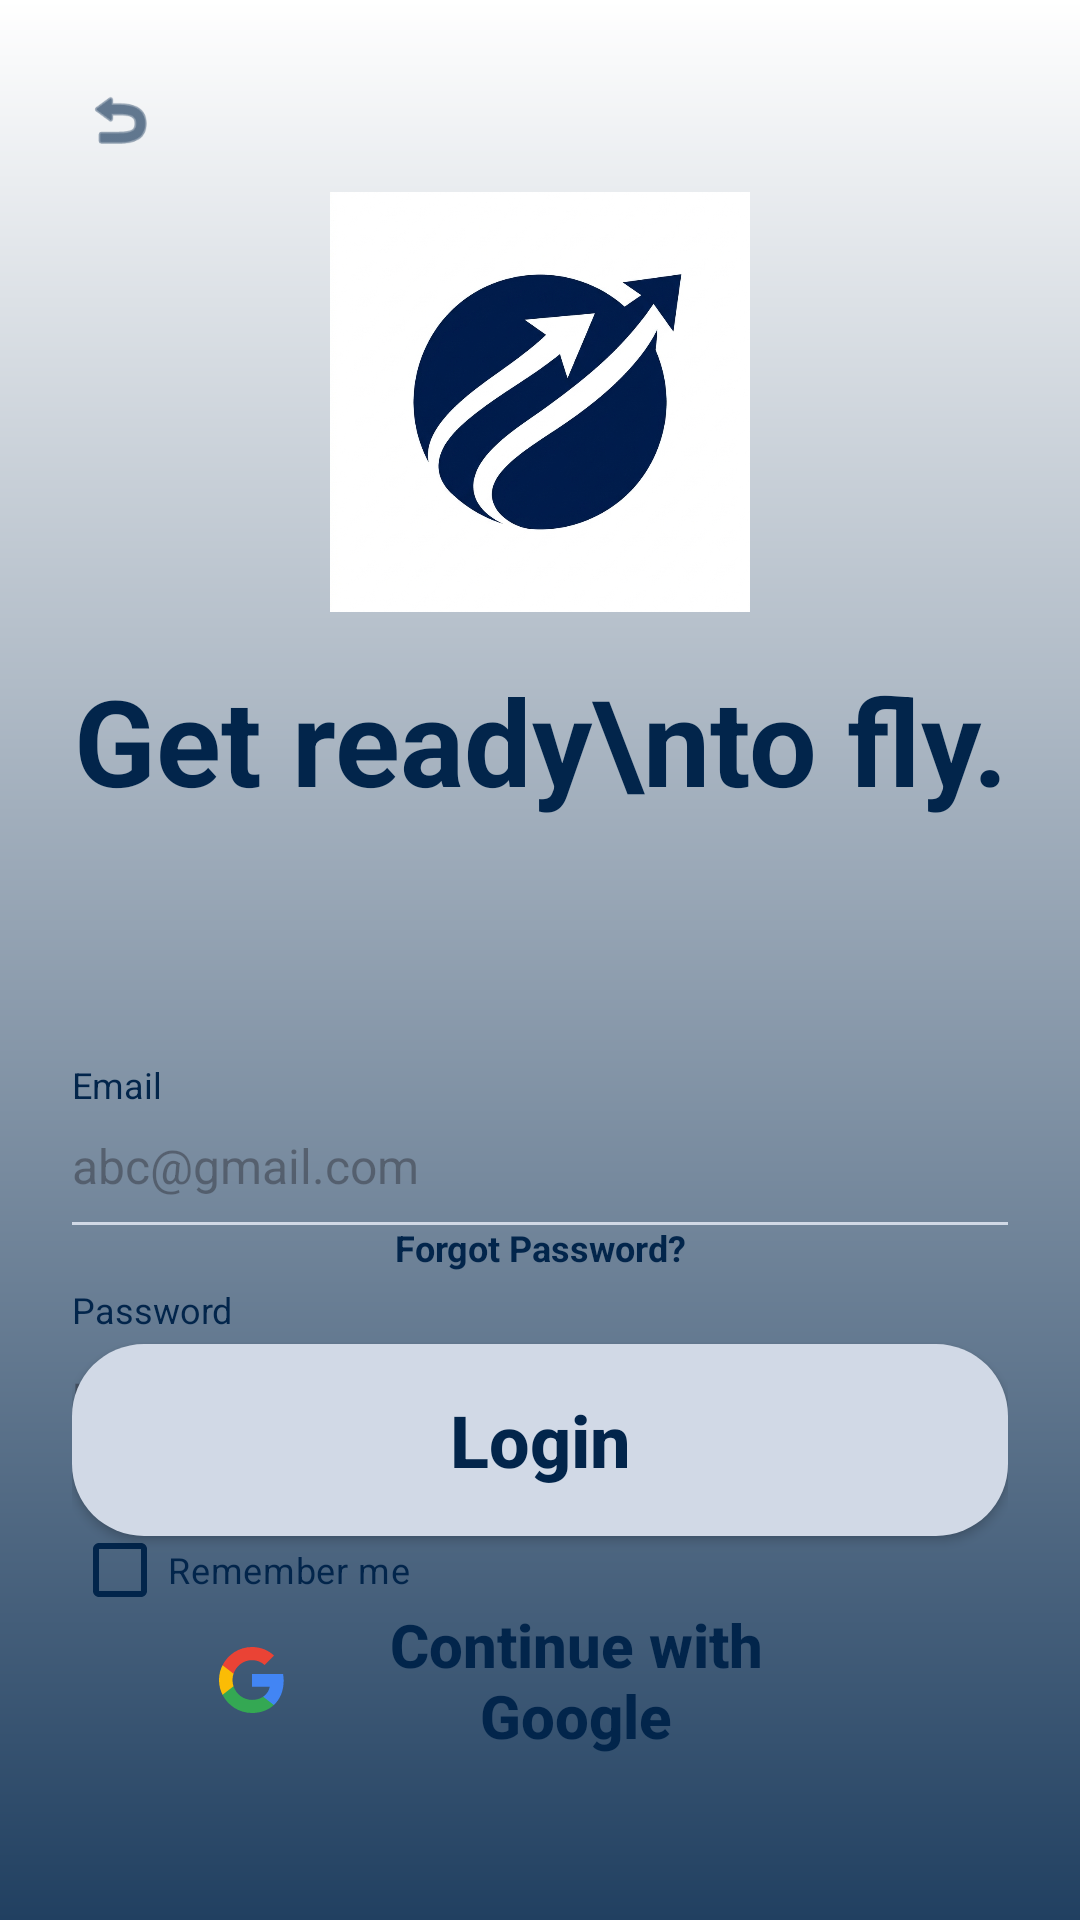

Screen size 1080px×1920px. Icon name, then its box in pixels as (x1, y1, x2, y2):
revert: (95, 97, 147, 144)
